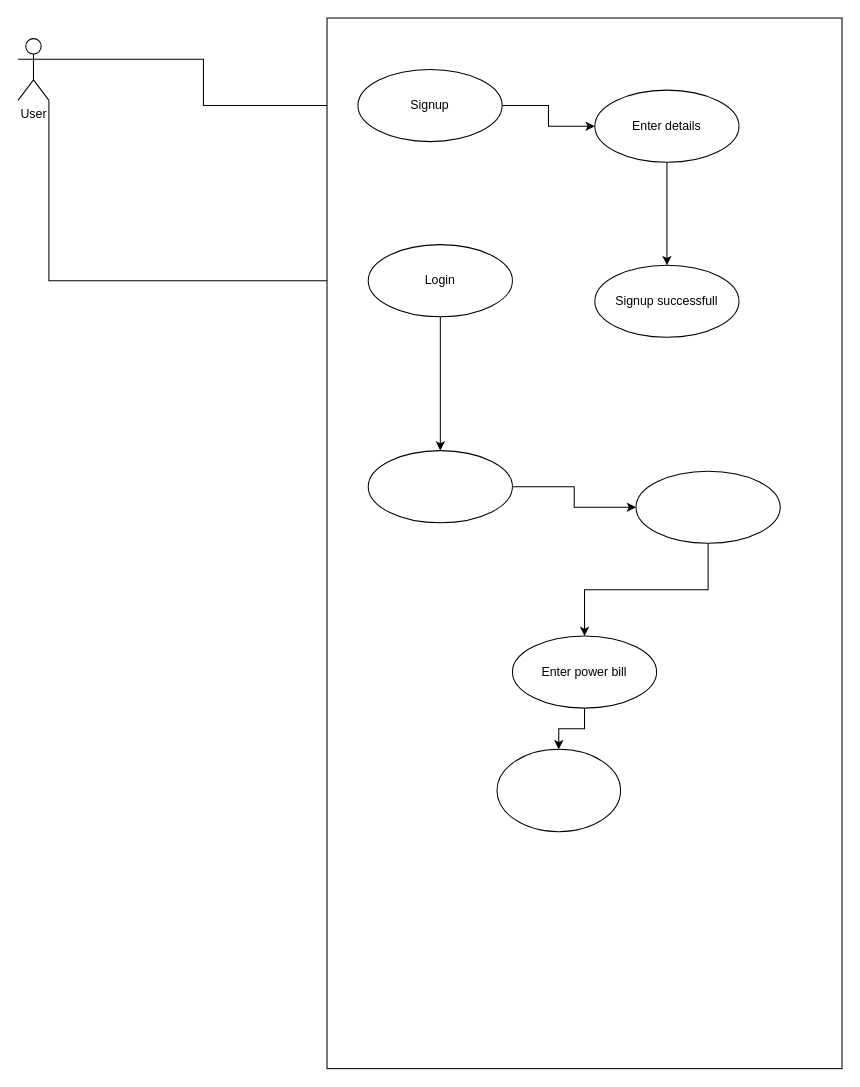
Some shapes in this 860 by 1087 pixel diagram are drawn without their labels. Each missing label, with the box of its shape:
Enter Date Due: (635, 470, 780, 543)
Enter water bill: (367, 450, 512, 523)
Send Message: (496, 748, 621, 832)
